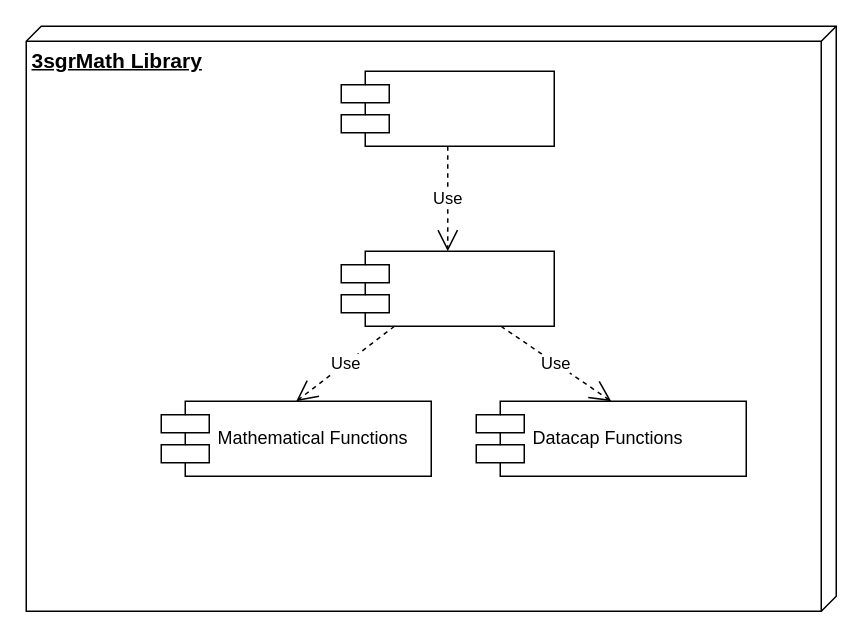
The diagram is 863 pixels wide and 638 high, and some of its shapes have lost their labels. Each missing label, with the box of its shape:
CustomActions: (340, 70, 554, 146)
FormulaProcessor: (340, 250, 554, 326)
